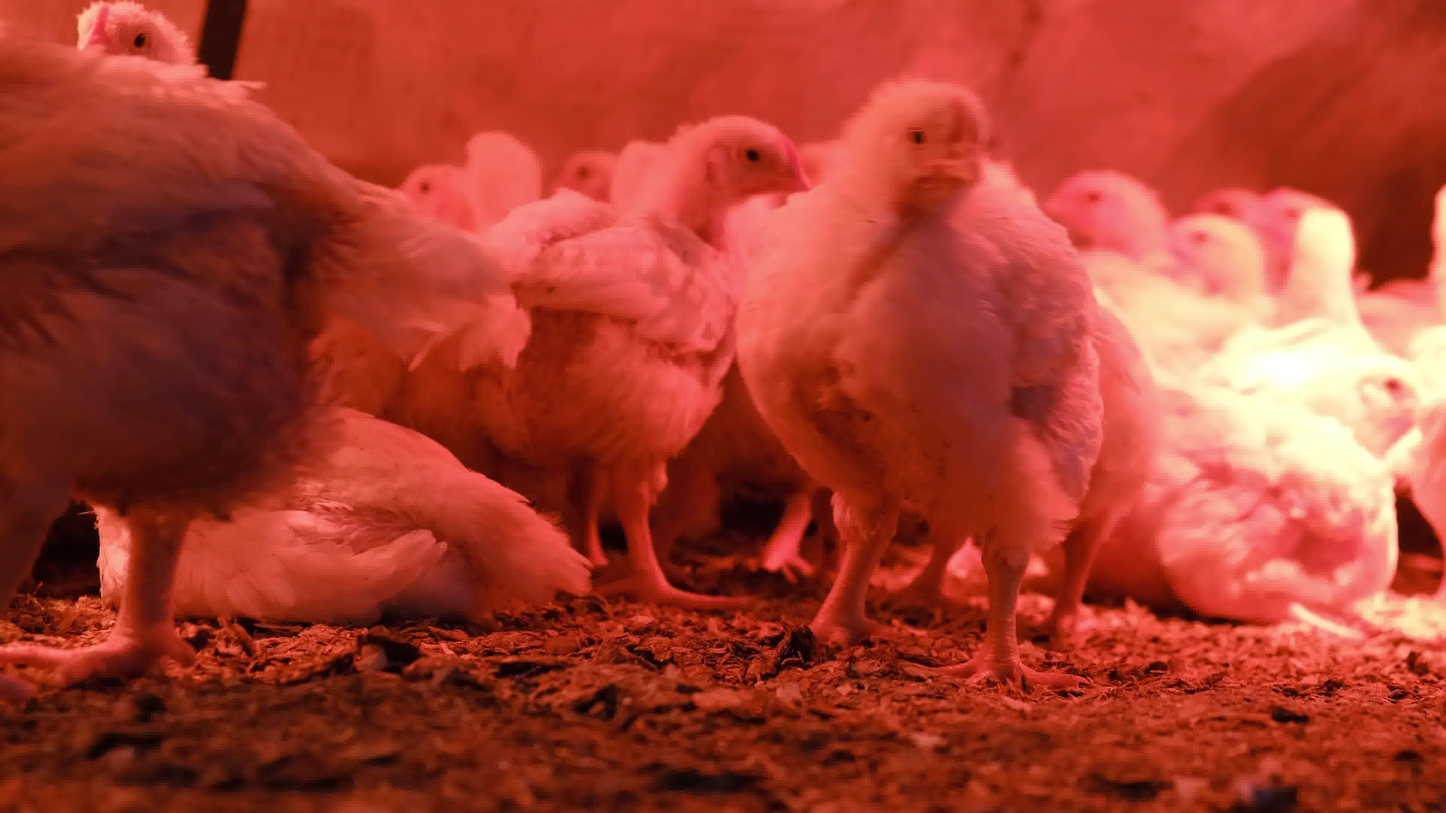AbNormal: (93, 405, 592, 627), (1106, 350, 1443, 614)
Normal: (4, 23, 536, 693), (731, 76, 1104, 694), (471, 111, 814, 613), (879, 281, 1155, 661), (1040, 164, 1176, 354), (1253, 211, 1367, 359), (1158, 213, 1263, 310), (74, 2, 206, 76), (456, 128, 540, 226), (392, 164, 471, 237), (1266, 189, 1350, 244), (558, 138, 619, 208), (1194, 189, 1262, 232)
